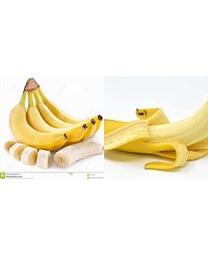banana: (103, 98, 207, 170), (8, 76, 103, 151)
